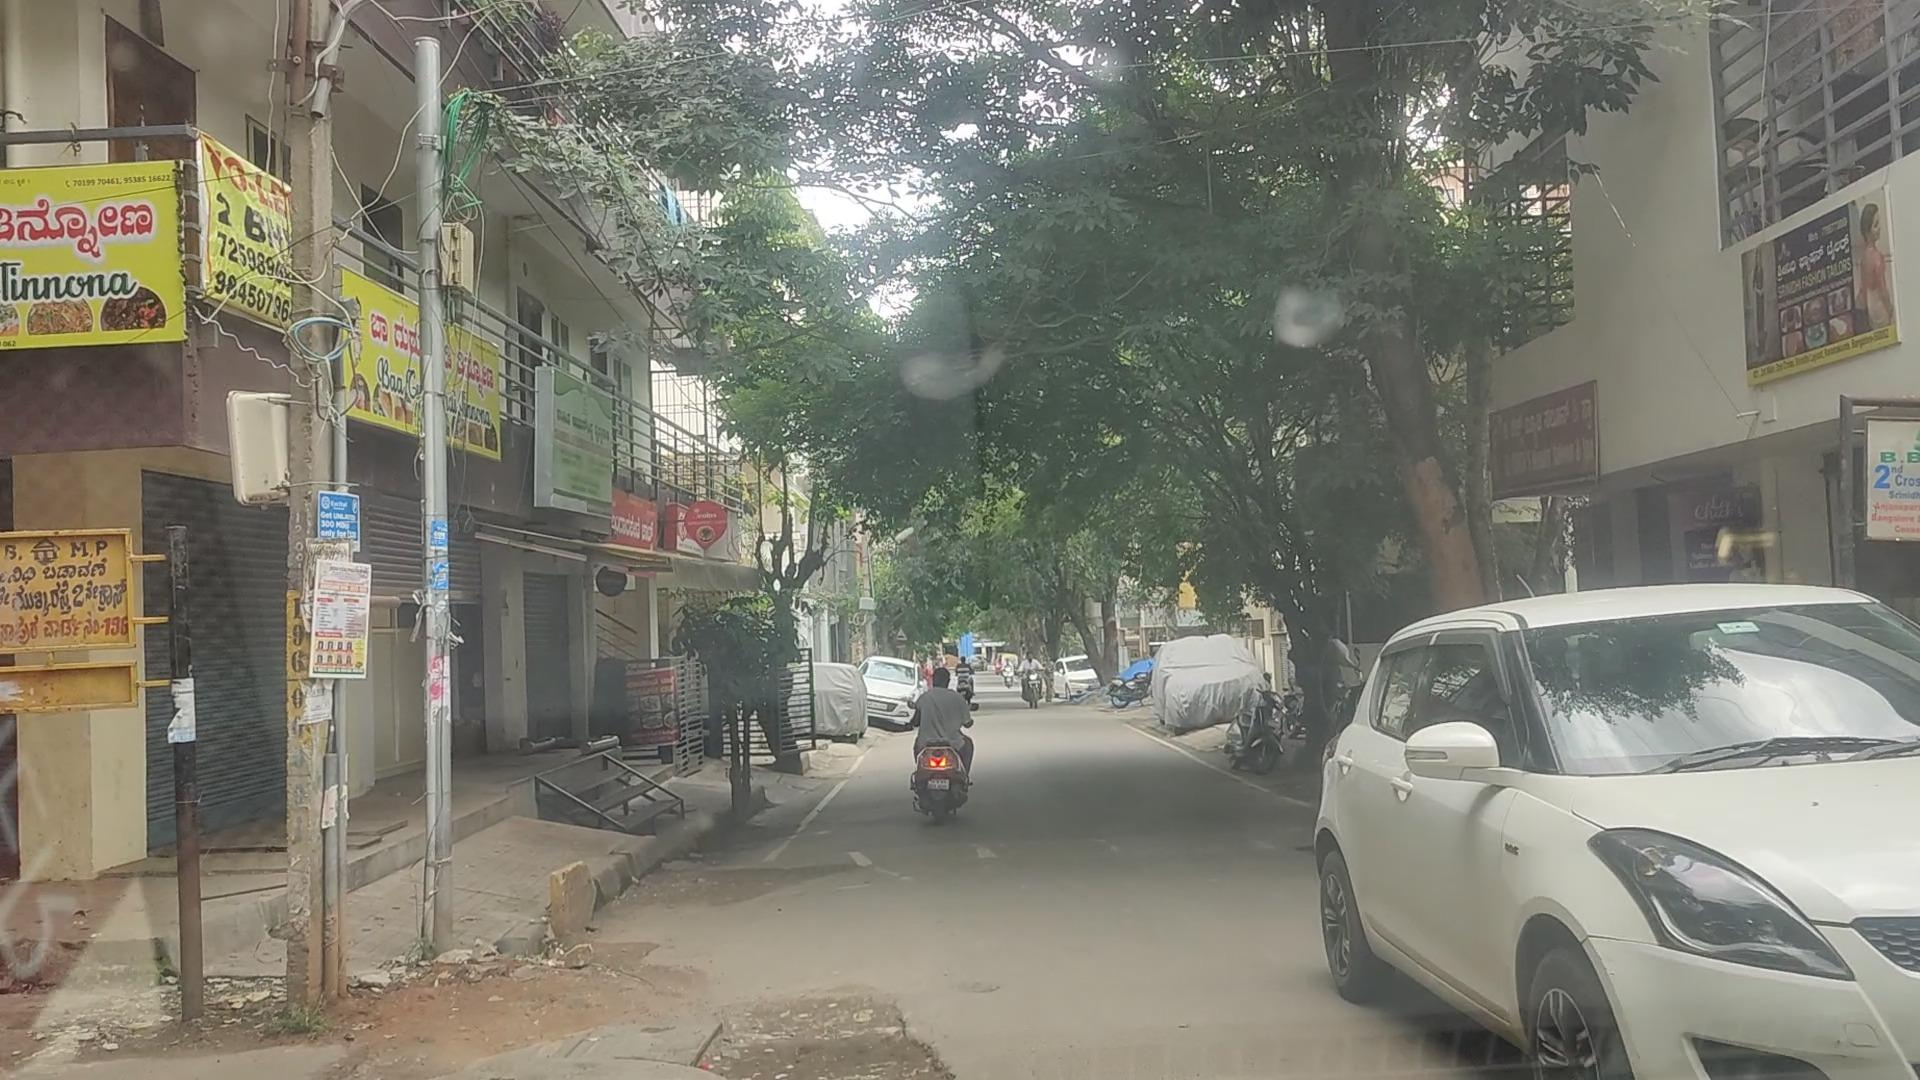LMV: (1317, 571, 1920, 1080), (911, 667, 981, 814)
RoadDamages: (661, 985, 972, 1080)
